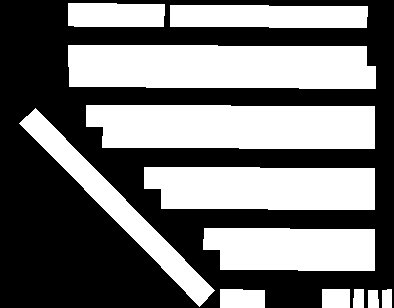parkingspot: (19, 108, 214, 306), (69, 65, 375, 88), (68, 45, 366, 68), (86, 105, 374, 128), (102, 125, 374, 148), (144, 167, 374, 189), (161, 187, 374, 209), (170, 5, 367, 27), (203, 228, 374, 250), (220, 248, 374, 270), (68, 3, 164, 26), (220, 289, 264, 308), (322, 289, 349, 308), (353, 289, 363, 308), (368, 290, 378, 308), (382, 289, 391, 308)
